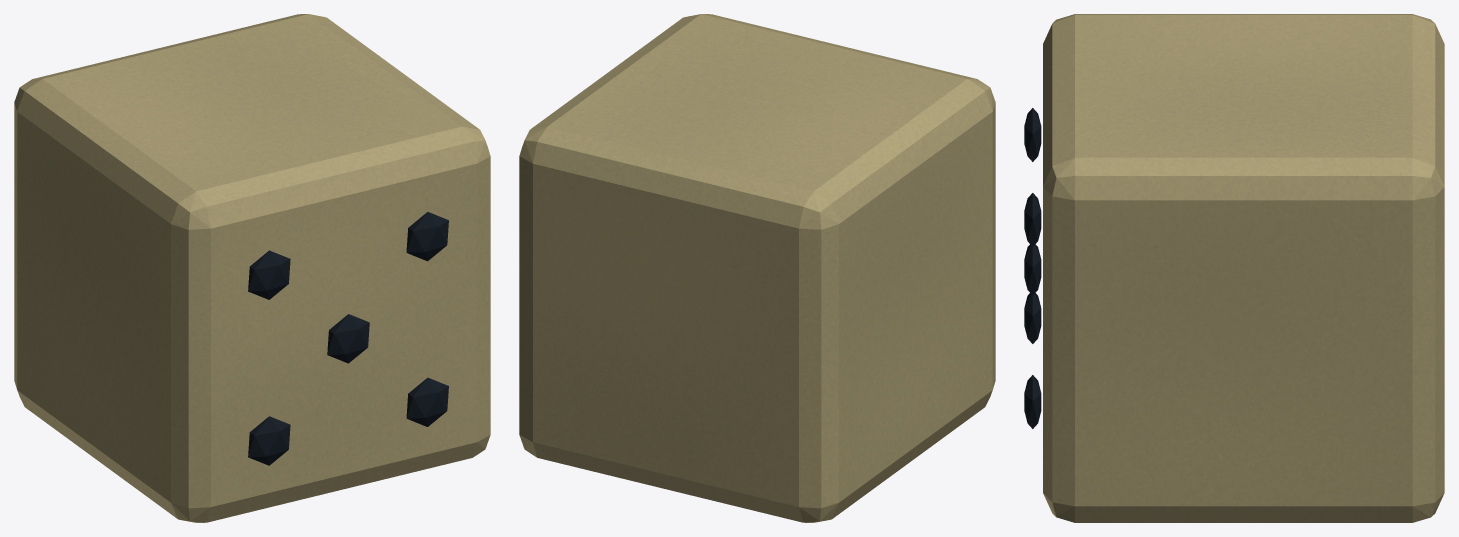
The model's file is Relic_Dice.fbx.
3 views of the same model, side by side, from view 1: azimuth 30°, elevation 25°; view 2: azimuth 150°, elevation 25°; view 3: azimuth 270°, elevation 25° (orthographic). The views are drawn at different scales.
Visible parts, largest first — view 1: Relic_Dice_Bone, Relic_Dice_DarkSteel; view 2: Relic_Dice_Bone; view 3: Relic_Dice_Bone, Relic_Dice_DarkSteel.
Part boxes in pixels (x1,y1,x2,y2): Relic_Dice_Bone: (14, 14, 490, 522); Relic_Dice_DarkSteel: (248, 212, 448, 465); Relic_Dice_Bone: (519, 14, 995, 522); Relic_Dice_Bone: (1043, 14, 1444, 522); Relic_Dice_DarkSteel: (1024, 108, 1041, 428).
Size of the model in its own units: 0.2 by 0.2 by 0.2093.
